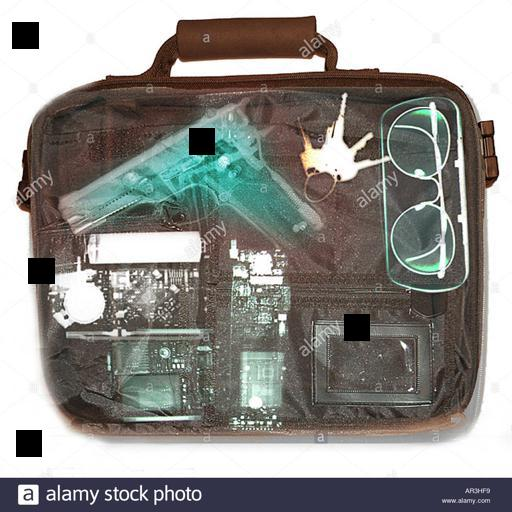Handgun: (56, 96, 330, 249)
